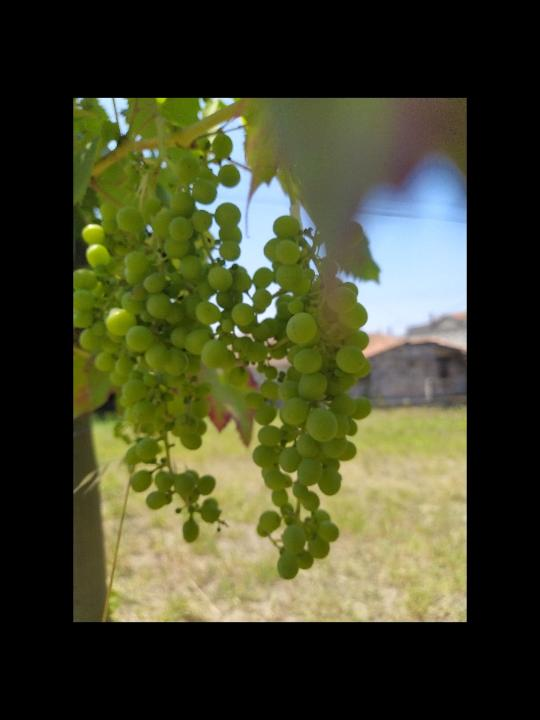grape: (78, 131, 252, 544), (250, 214, 373, 583)
